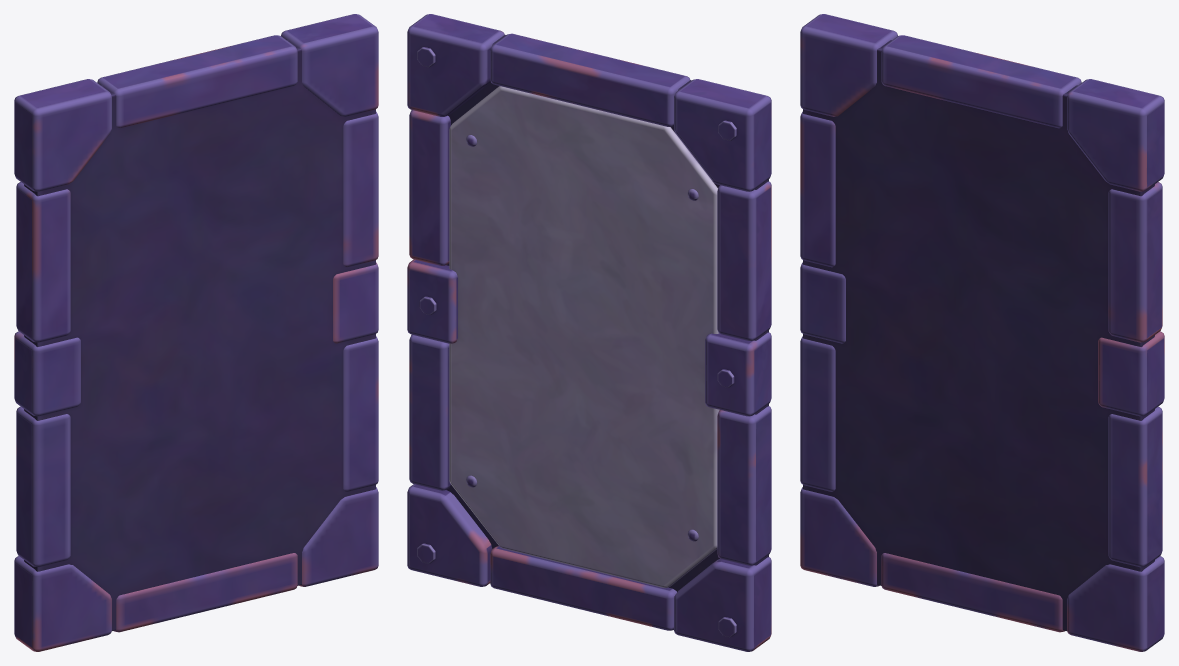
File: bg_claude_w01.glb
3 renders of one model, left to right at view 1: azimuth 30°, elevation 25°; view 2: azimuth 150°, elevation 25°; view 3: azimuth 330°, elevation 25°, orthographic.
Parts seen in each view (by area): view 1: wall; view 2: wall; view 3: wall.
Part boxes in pixels (x1,y1,x2,y2): wall: (14, 14, 378, 651); wall: (407, 14, 771, 651); wall: (800, 14, 1164, 651).
Size of the model in its own units: 2 by 3 by 0.25.
Materials: 1 (1 with a texture image).
